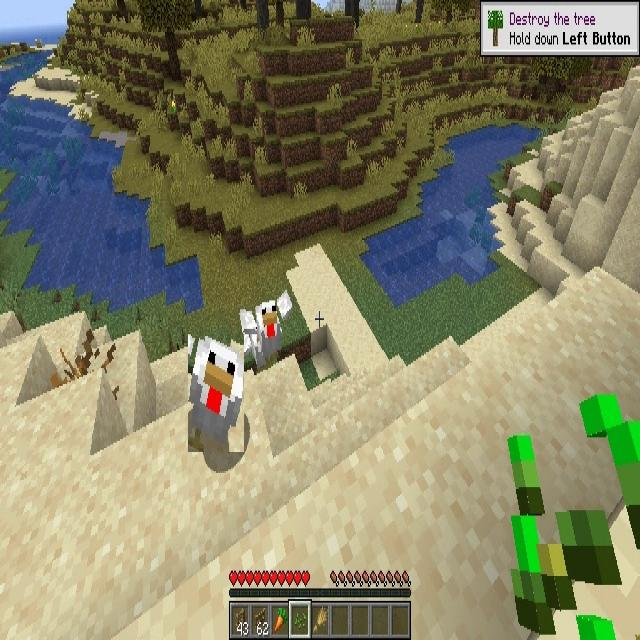duck: (188, 334, 244, 452), (238, 292, 292, 367)
